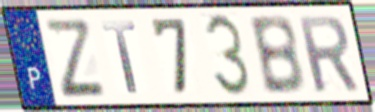3: (202, 11, 253, 100)
7: (150, 16, 191, 97)
B: (246, 12, 307, 97)
R: (294, 13, 362, 95)
T: (100, 19, 141, 96)
Z: (40, 17, 108, 100)
